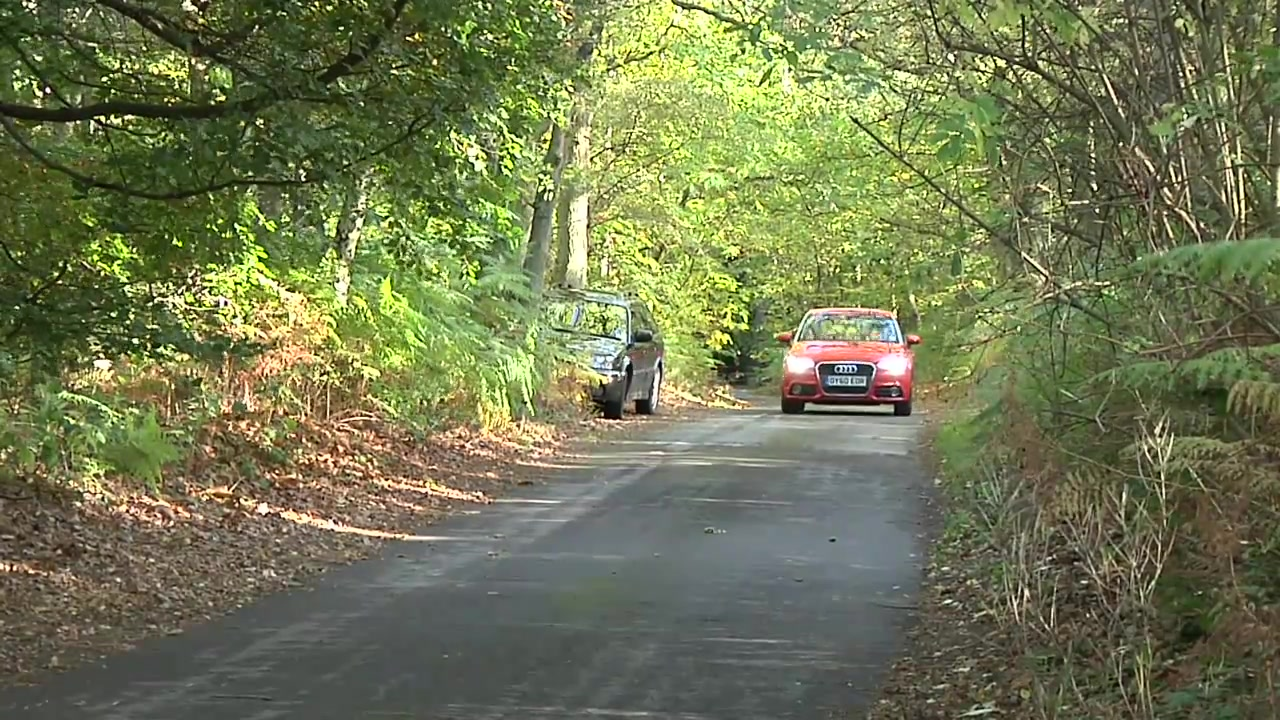car: (775, 304, 925, 413)
